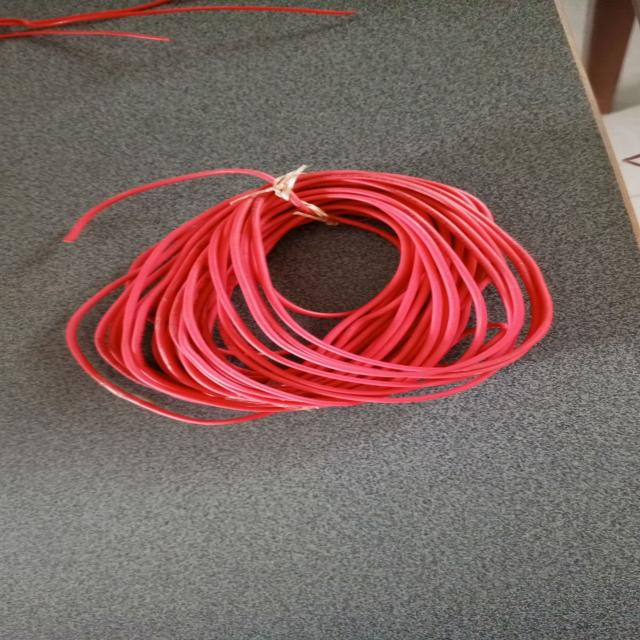Connecting Wires: (42, 155, 577, 430)
